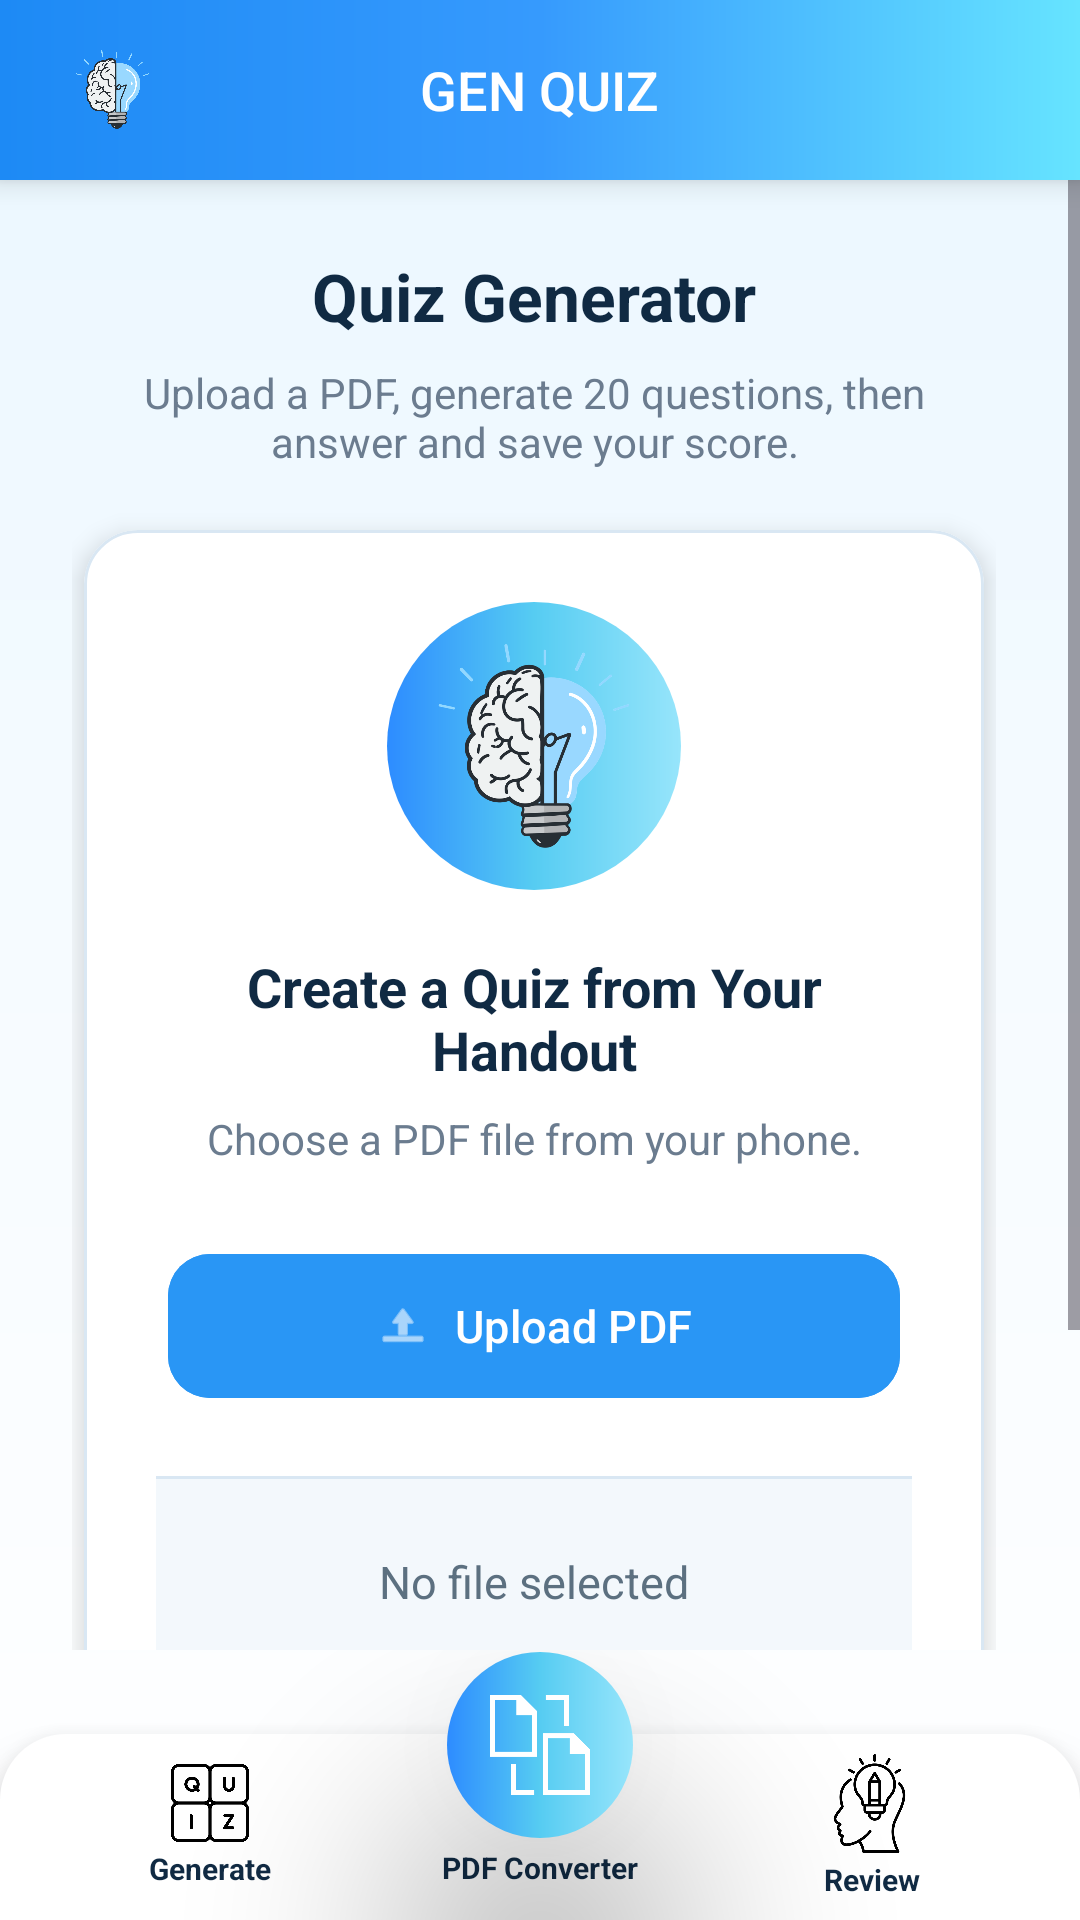

Where to tap for icons on this 1080px x 1920px app screen, as (x,y):
pdf convert nav: (540,1745)
